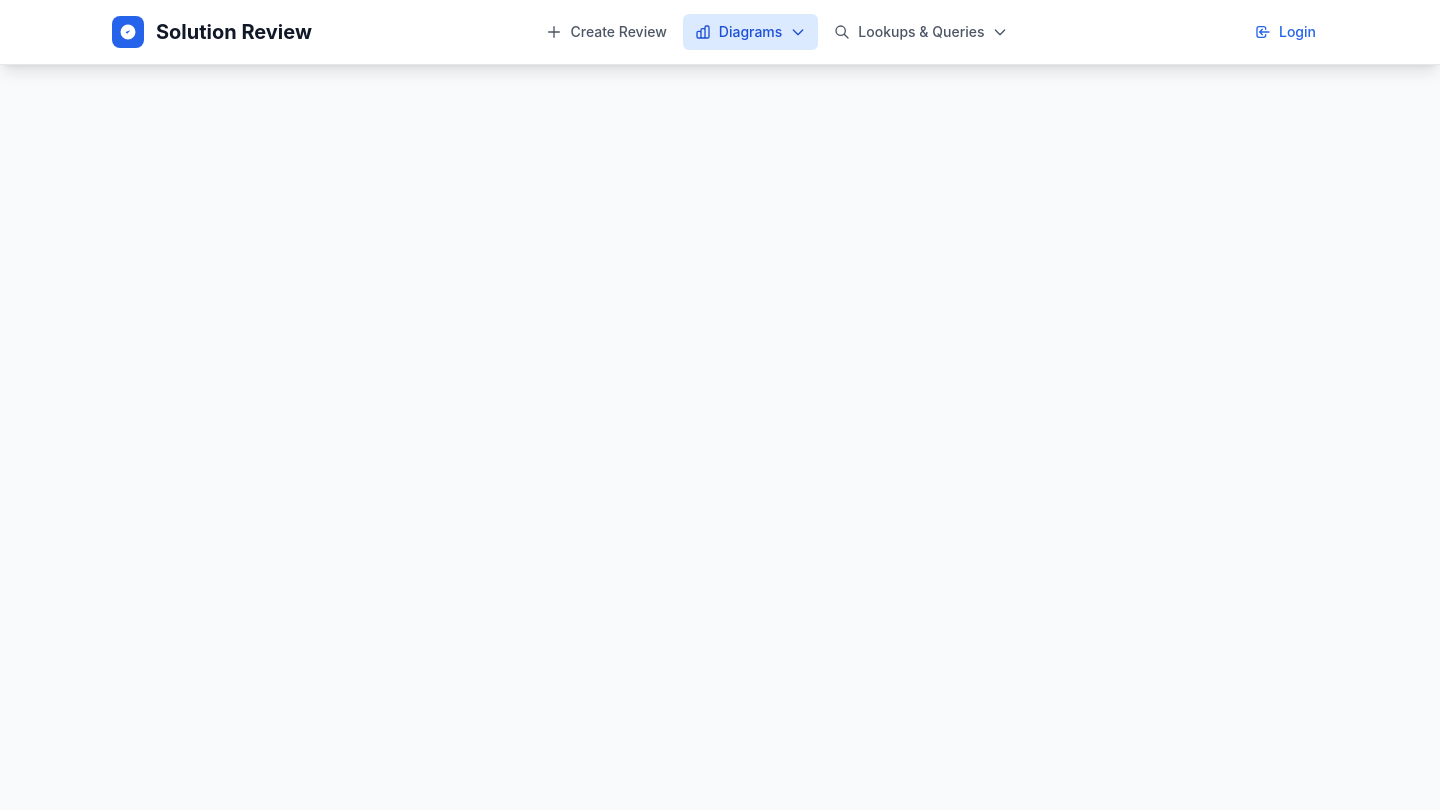
Navbar › Diagram Dropdown › closes dropdown when clicking backdrop
Step 1. Click the button "Diagrams" → (751, 32), box x1=683 y1=14 x2=818 y2=50
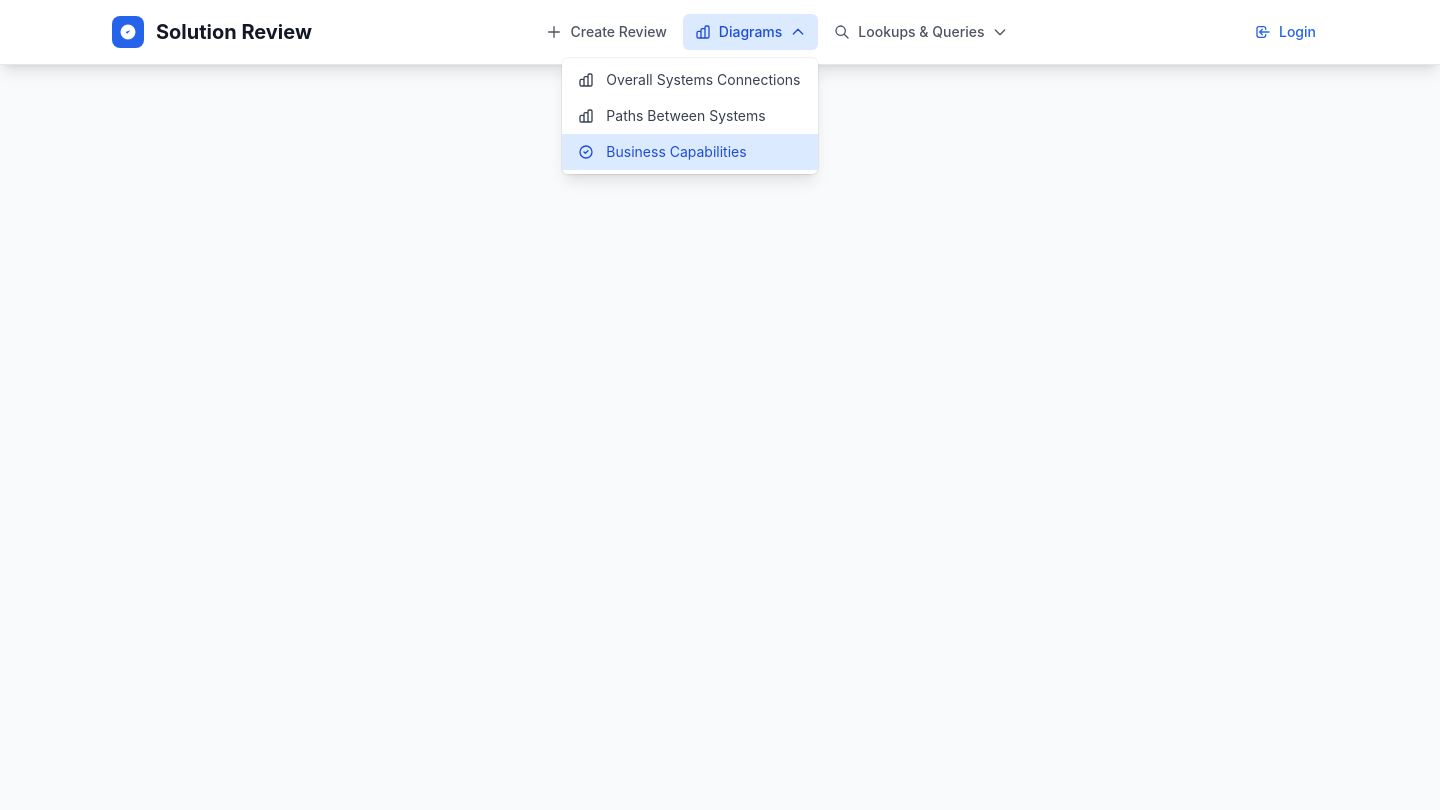
Check: the element with class "mt-2" is shown, box x1=562 y1=58 x2=818 y2=174
Step 2. Click the element with class "z-40" → (720, 405), box x1=0 y1=0 x2=1439 y2=809
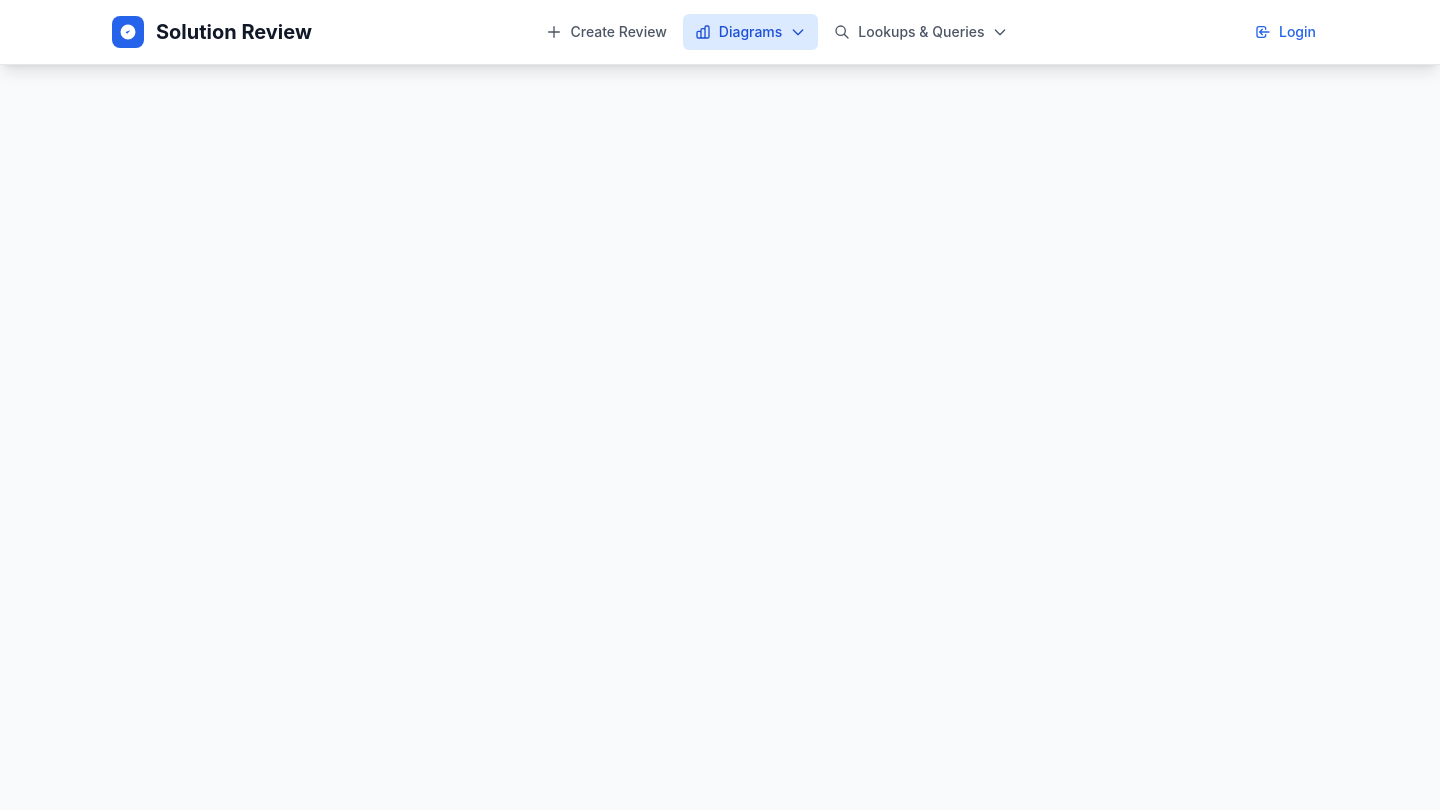
Check: the element with class "mt-2" is gone
